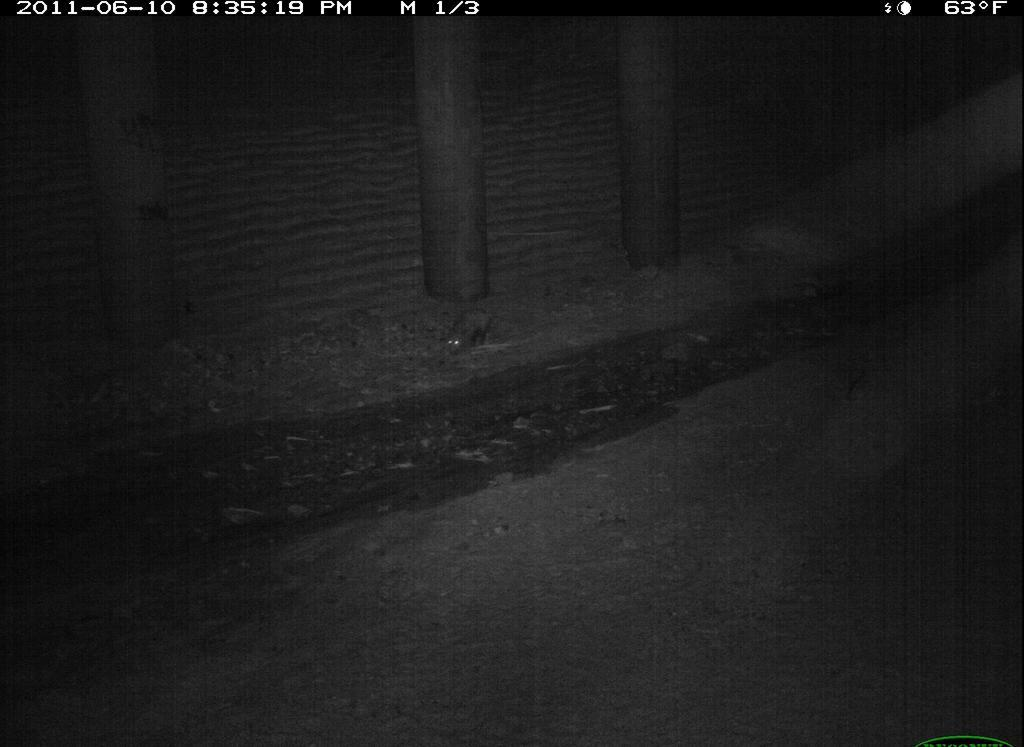opossum: (881, 607, 1016, 717)
